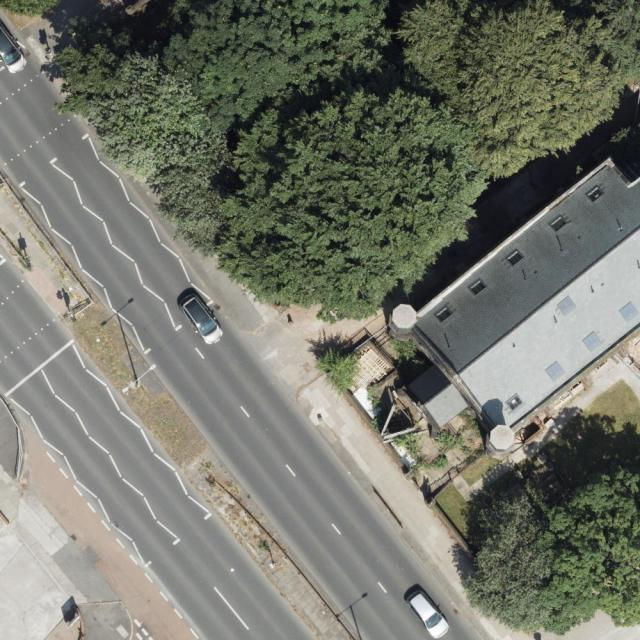roof: (391, 160, 640, 449)
skylight: (581, 328, 603, 352), (618, 300, 640, 324), (544, 362, 566, 383), (547, 214, 567, 234), (556, 297, 578, 315), (506, 249, 525, 269), (506, 393, 525, 413), (585, 186, 606, 204), (468, 279, 487, 296), (436, 305, 453, 323)
